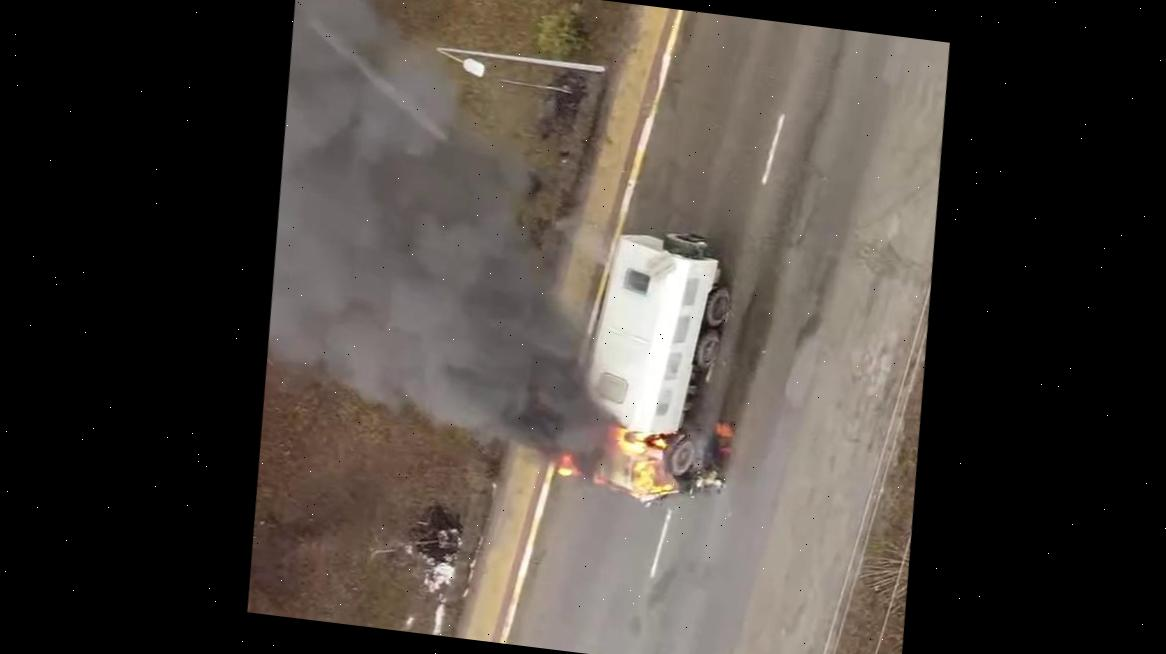truck: (546, 219, 746, 512)
